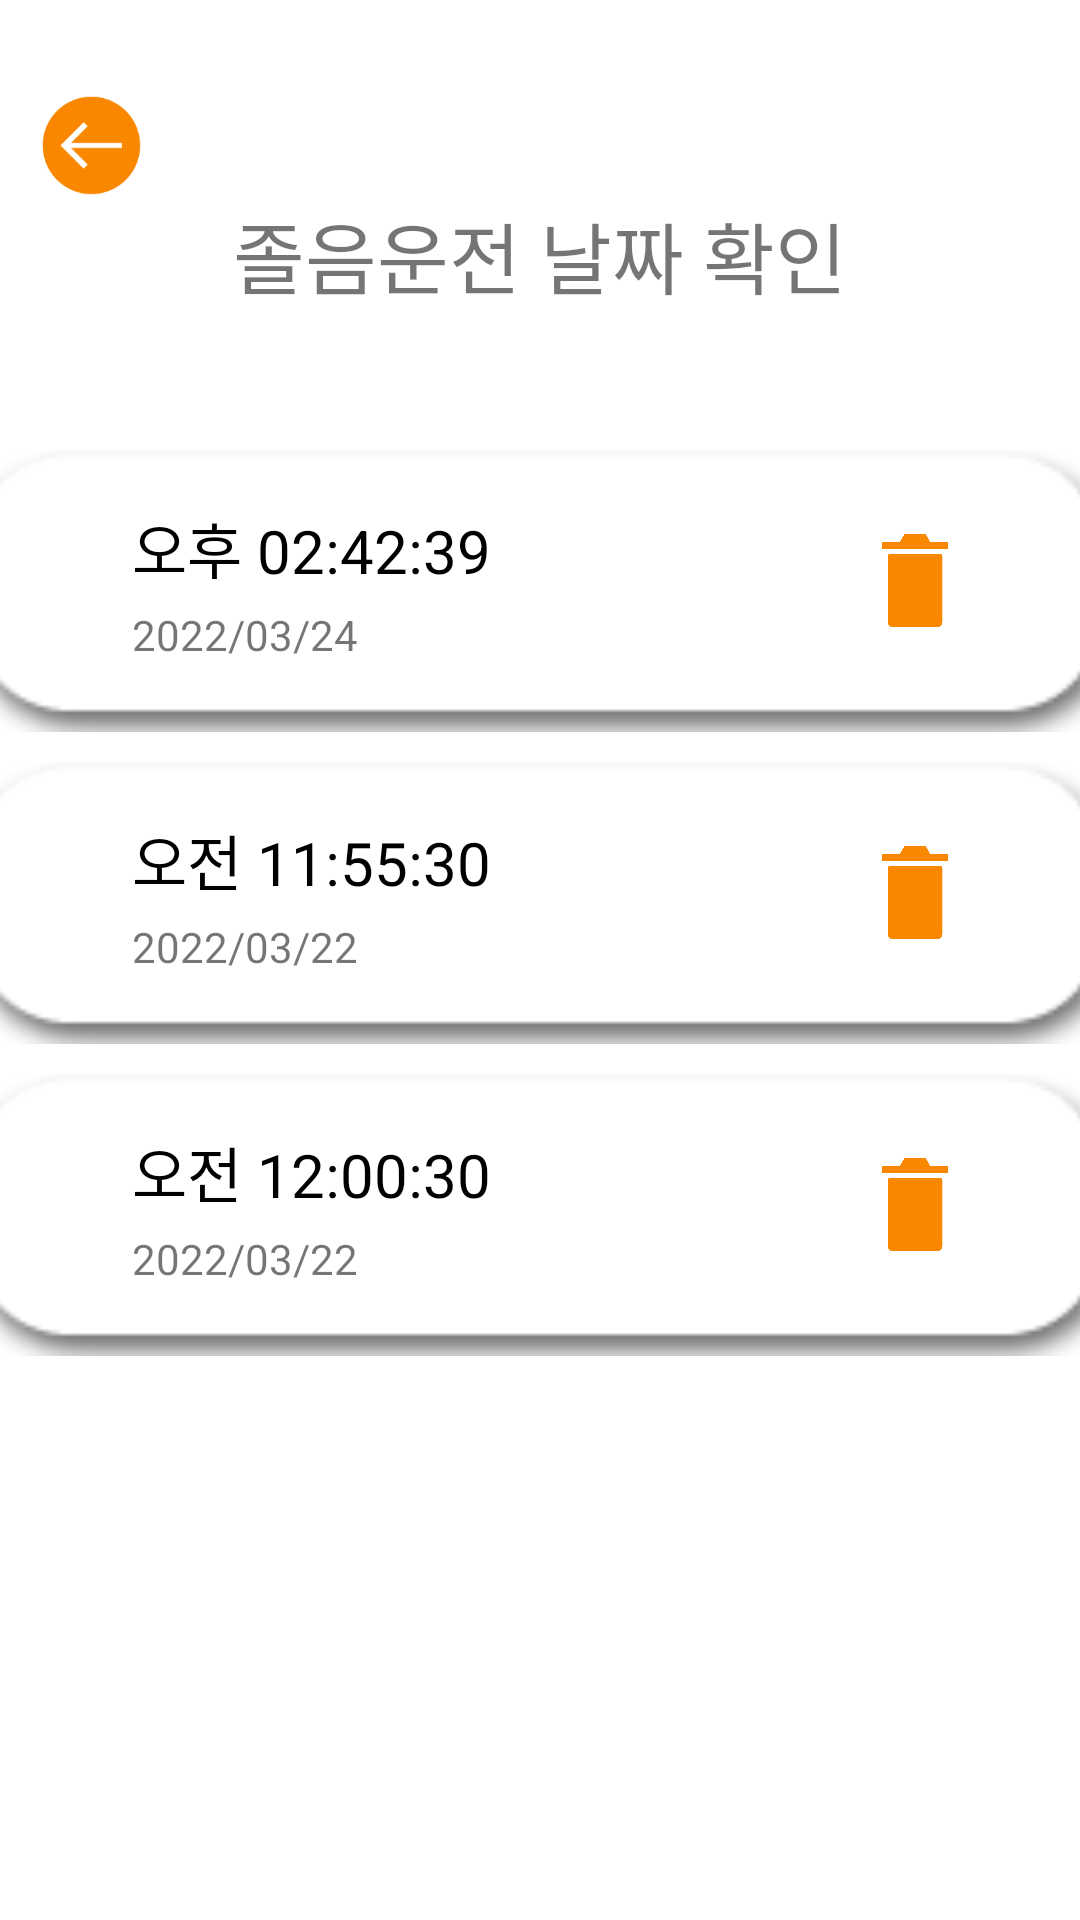

Named icons in this screenshot (1080*1920) and their centers, (x,y):
goback: (91,145)
